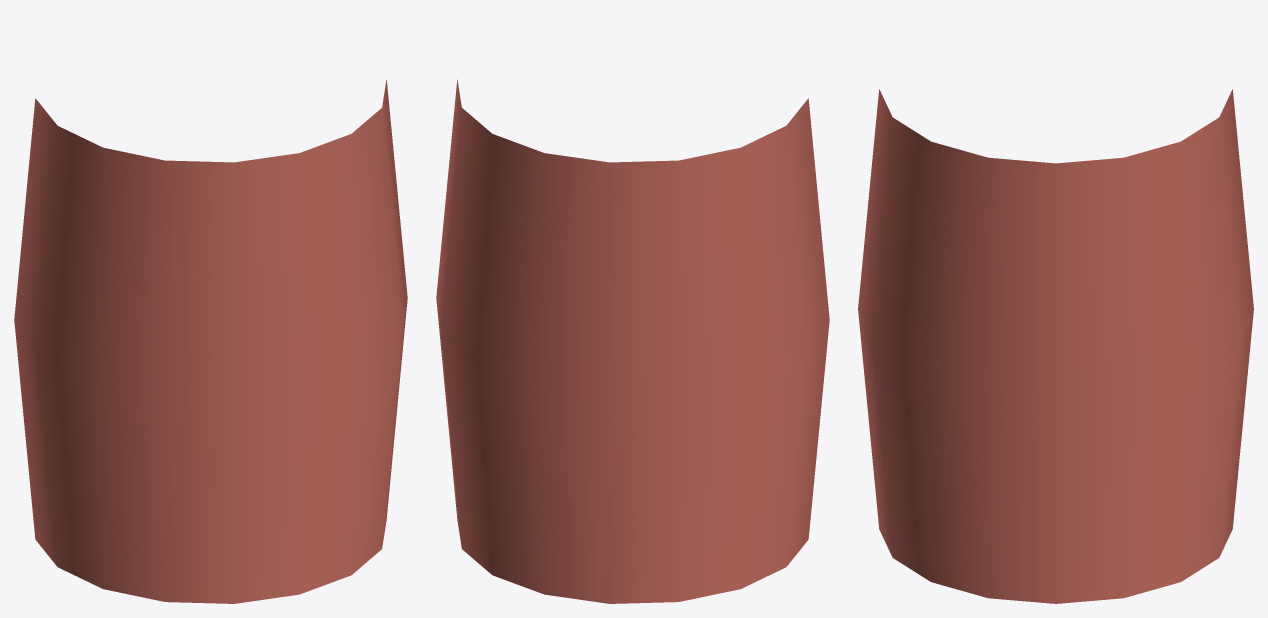
Rendered from barrel.glb.
3 renders of one model, left to right at view 1: azimuth 30°, elevation 25°; view 2: azimuth 150°, elevation 25°; view 3: azimuth 270°, elevation 25°, orthographic.
Visible parts, largest first — view 1: barrel; view 2: barrel; view 3: barrel.
Boxes of the visible parts, <box> form: barrel: <box>14,79,407,603</box>; barrel: <box>436,79,829,603</box>; barrel: <box>858,89,1253,603</box>.
Bounding box in the file's own units: 0.896 × 1.1 × 0.896.
